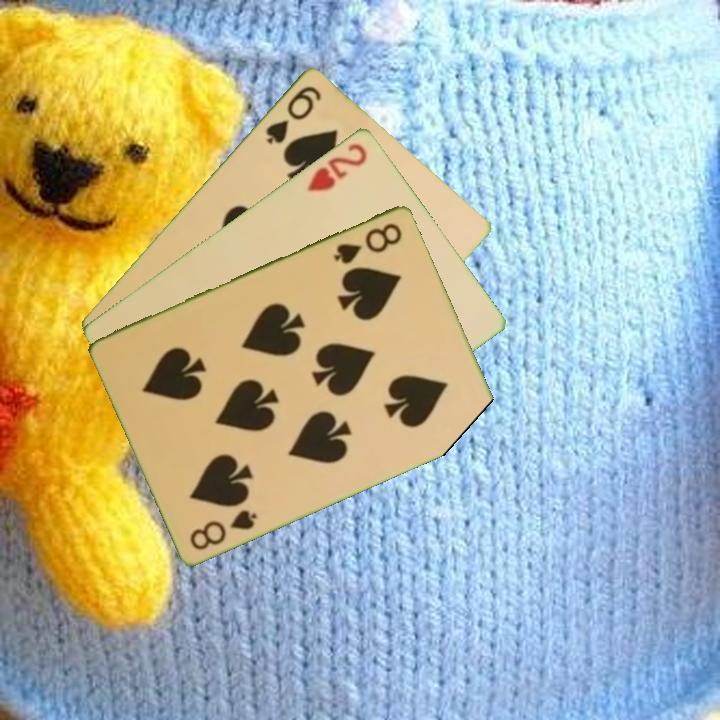2h: (303, 139, 370, 195)
6s: (261, 81, 324, 146)
8s: (330, 218, 405, 267), (186, 505, 260, 553)
